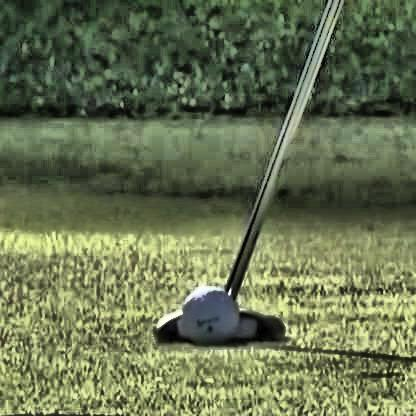golfball: (177, 281, 236, 344)
